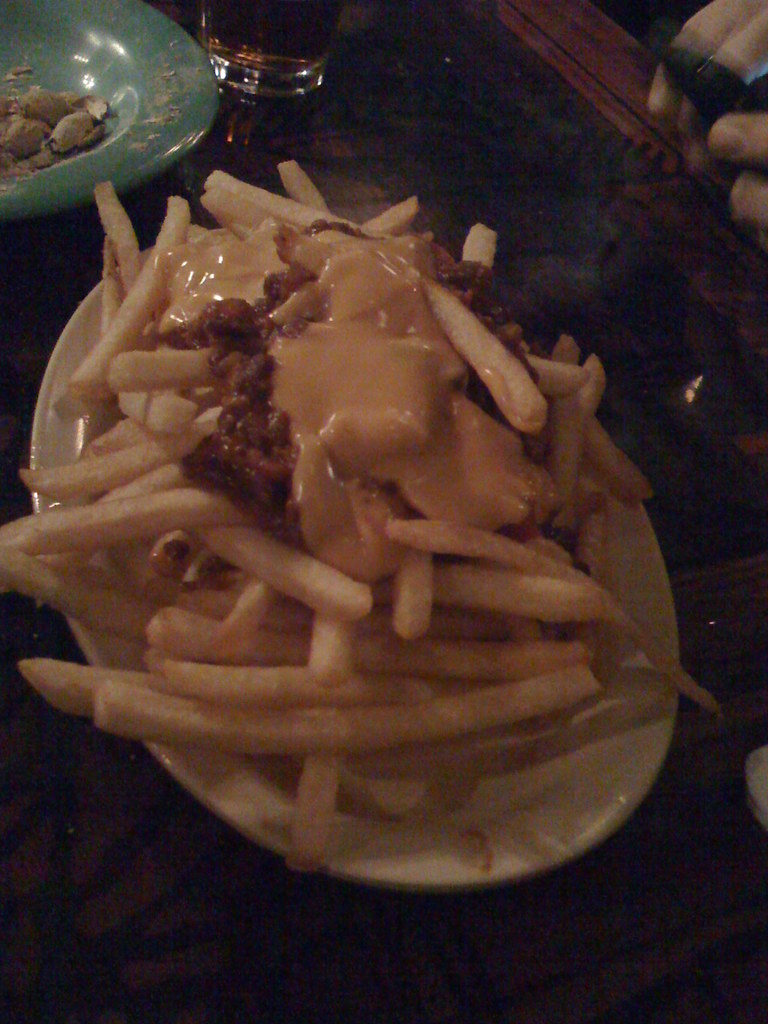French fries: (39, 181, 683, 893)
